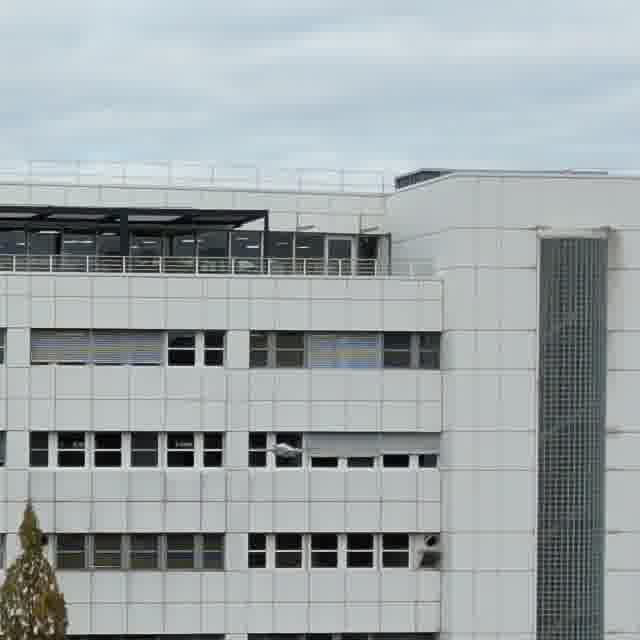Drohne: (271, 443, 301, 456)
